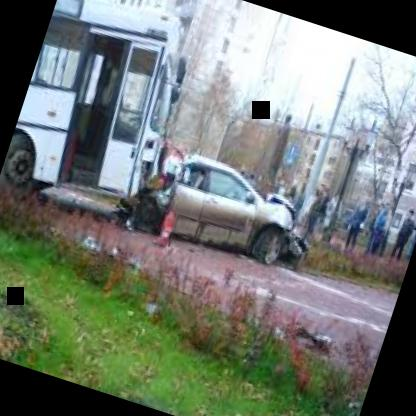accident: (0, 0, 363, 316)
